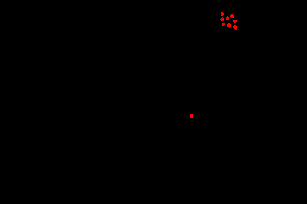Target: (227, 23, 231, 28), (233, 25, 237, 30), (230, 14, 234, 18), (220, 17, 224, 21), (221, 12, 224, 16), (226, 16, 229, 20), (233, 20, 237, 23), (190, 114, 193, 118), (222, 23, 225, 26)
